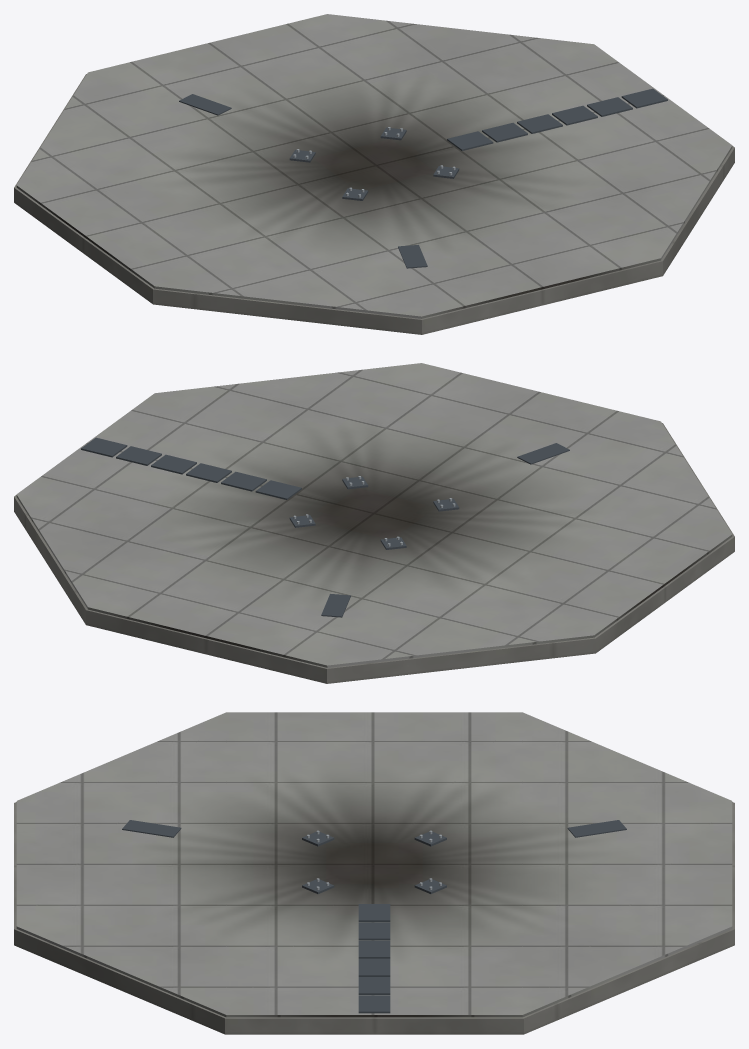
Rendered from slab.glb.
3 renders of one model, top to bottom at view 1: azimuth 30°, elevation 25°; view 2: azimuth 150°, elevation 25°; view 3: azimuth 270°, elevation 25°, orthographic. The views are drawn at different scales.
Parts seen in each view (by area): view 1: hardstand, slab; view 2: hardstand, slab; view 3: hardstand, slab.
Boxes of the visible parts, bbox=[...] form: hardstand: bbox=[14, 14, 734, 334]; slab: bbox=[179, 88, 667, 268]; hardstand: bbox=[14, 363, 734, 683]; slab: bbox=[81, 437, 569, 617]; hardstand: bbox=[14, 712, 734, 1034]; slab: bbox=[122, 820, 626, 1013].
Size of the model in its own units: 15.82 by 0.5599 by 15.82.
4 materials, 2 textured.
